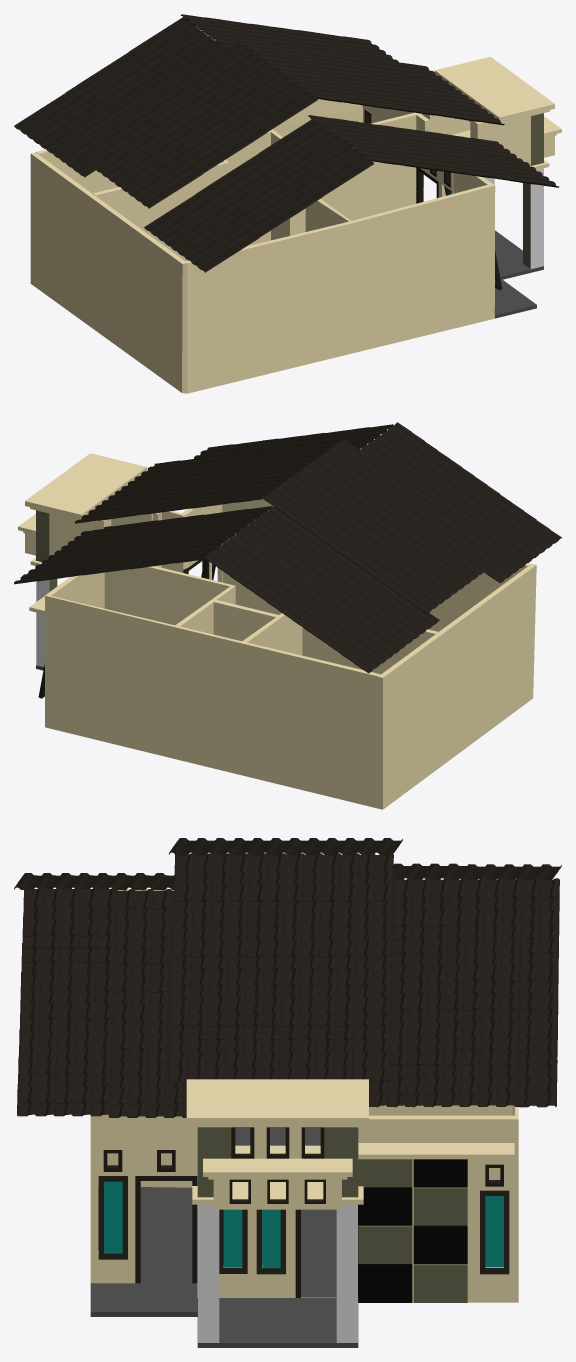
The model's file is type54.fbx.
3 renders of one model, top to bottom at view 1: azimuth 30°, elevation 25°; view 2: azimuth 150°, elevation 25°; view 3: azimuth 270°, elevation 25°, orthographic. The views are drawn at different scales.
Parts seen in each view (by area): view 1: Cube, Plane.029, Plane, teras.005, Plane.002, Plane.030, Plane.016, lantai teras, Plane.004, Plane.017, Plane.032, Plane.039 (+30 smaller); view 2: Cube, Plane, teras.005, Plane.001, Plane.002, Plane.016, Plane.029, Plane.017, Plane.004, Plane.023, Plane.009, Plane.010 (+29 smaller); view 3: Cube, Plane.029, Plane, Plane.002, Plane.016, lantai teras, Cube.002, Plane.030, Plane.001, teras.005, Plane.003, teras.006 (+13 smaller).
Boxes of the visible parts, x1=… form: Cube: x1=30, y1=99, x2=495, y2=393; Plane.029: x1=337, y1=135, x2=559, y2=187; Plane: x1=283, y1=73, x2=504, y2=125; teras.005: x1=434, y1=56, x2=554, y2=121; Plane.002: x1=251, y1=49, x2=468, y2=99; Plane.030: x1=308, y1=115, x2=522, y2=161; Plane.016: x1=187, y1=18, x2=398, y2=62; lantai teras: x1=495, y1=230, x2=543, y2=318; Plane.004: x1=69, y1=41, x2=245, y2=155; Plane.017: x1=14, y1=17, x2=190, y2=131; Plane.032: x1=158, y1=129, x2=334, y2=243; Plane.039: x1=144, y1=118, x2=319, y2=233; Cube: x1=45, y1=497, x2=536, y2=809; Plane: x1=121, y1=440, x2=340, y2=489; teras.005: x1=25, y1=453, x2=146, y2=519; Plane.001: x1=54, y1=506, x2=272, y2=553; Plane.002: x1=89, y1=464, x2=307, y2=511; Plane.016: x1=22, y1=529, x2=241, y2=576; Plane.029: x1=194, y1=424, x2=393, y2=458; Plane.017: x1=204, y1=552, x2=375, y2=673; Plane.004: x1=262, y1=492, x2=434, y2=613; Plane.023: x1=238, y1=527, x2=409, y2=647; Plane.009: x1=297, y1=468, x2=467, y2=589; Plane.010: x1=304, y1=463, x2=474, y2=584; Cube: x1=90, y1=888, x2=518, y2=1302; Plane.029: x1=17, y1=887, x2=117, y2=1116; Plane: x1=168, y1=853, x2=268, y2=1082; Plane.002: x1=262, y1=853, x2=359, y2=1079; Plane.016: x1=441, y1=878, x2=541, y2=1106; lantai teras: x1=90, y1=1127, x2=358, y2=1347; Cube.002: x1=358, y1=1159, x2=467, y2=1302; Plane.030: x1=108, y1=889, x2=186, y2=1117; Plane.001: x1=369, y1=878, x2=450, y2=1107; teras.005: x1=186, y1=1079, x2=368, y2=1124; Plane.003: x1=352, y1=853, x2=393, y2=1082; teras.006: x1=198, y1=1204, x2=357, y2=1342.
Size of the model in its own units: 1284 by 686 by 1024.
